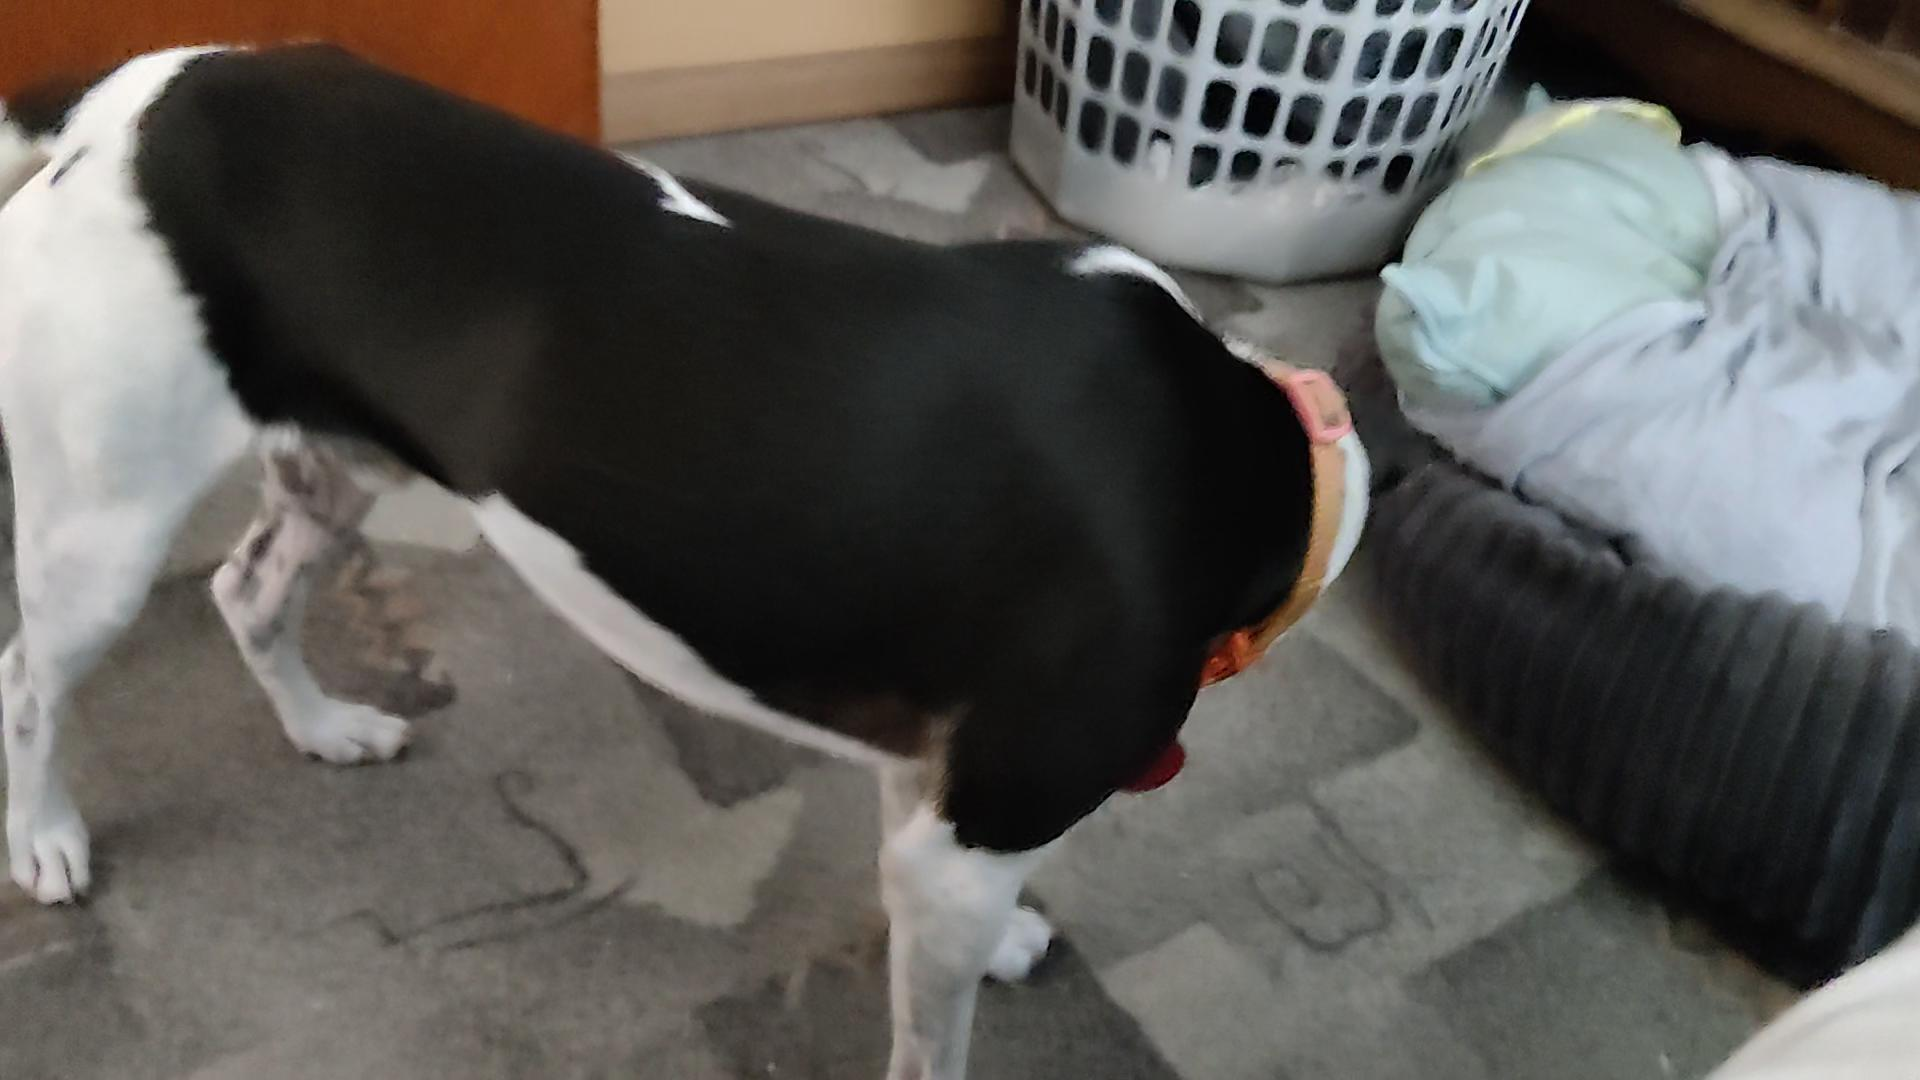Dog: (0, 26, 1393, 1079)
